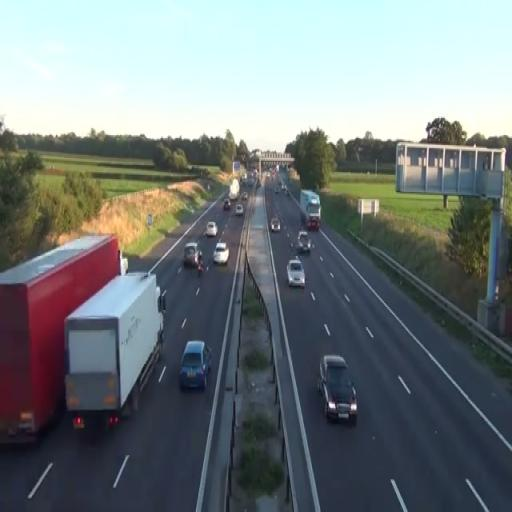Car: (317, 354, 358, 424), (179, 340, 212, 390), (288, 257, 306, 289), (212, 240, 230, 266), (297, 230, 311, 254), (184, 242, 198, 266), (206, 221, 218, 237), (271, 217, 281, 232), (234, 204, 244, 216), (223, 199, 231, 211)
Truck: (0, 232, 123, 446), (64, 270, 166, 433), (300, 190, 321, 230)
